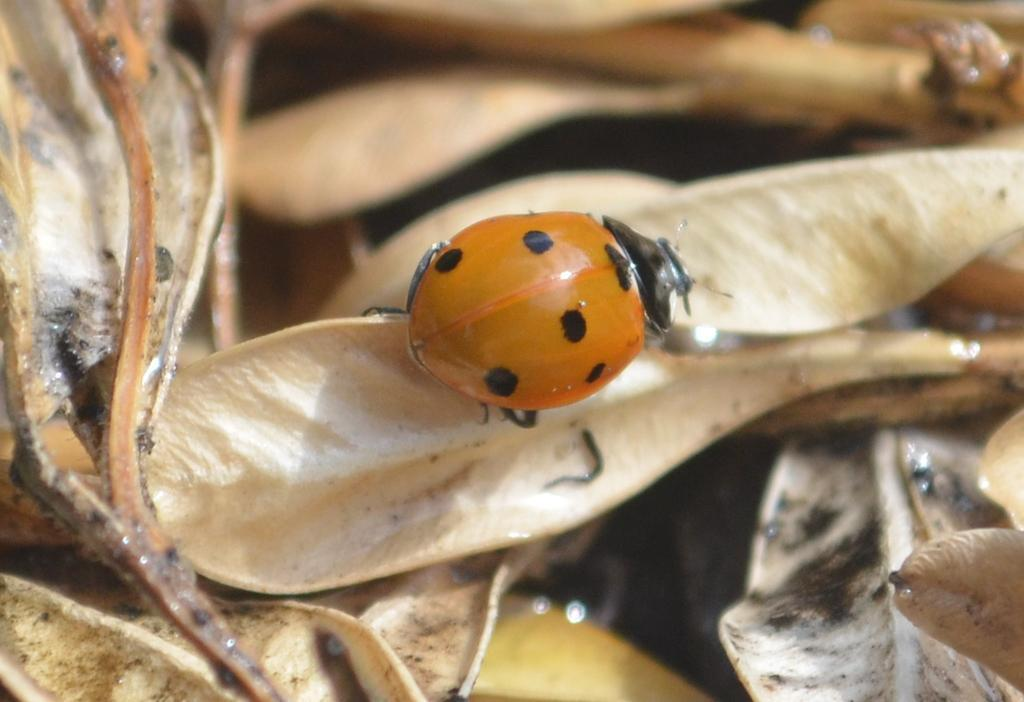ladybug: (357, 207, 739, 431)
